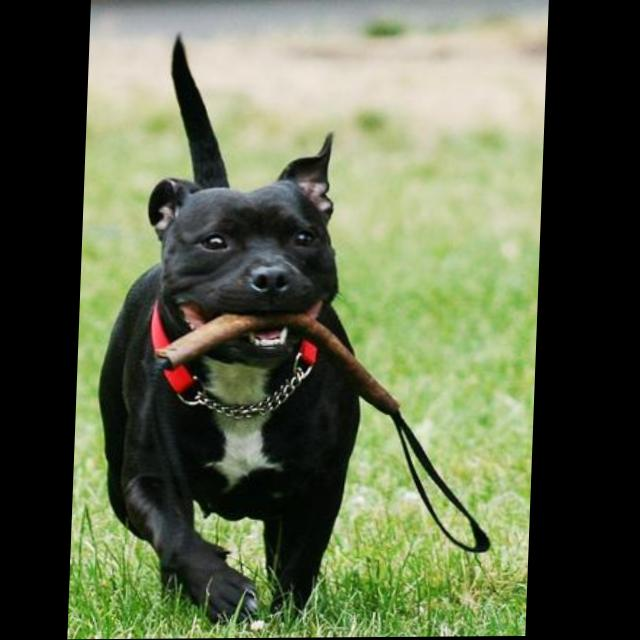staffford: (93, 31, 388, 634)
